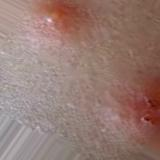Ants: (127, 75, 159, 135), (39, 6, 72, 33)
